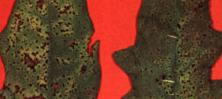Tomato Septoria leaf spot: (111, 0, 222, 99), (0, 0, 102, 99)
